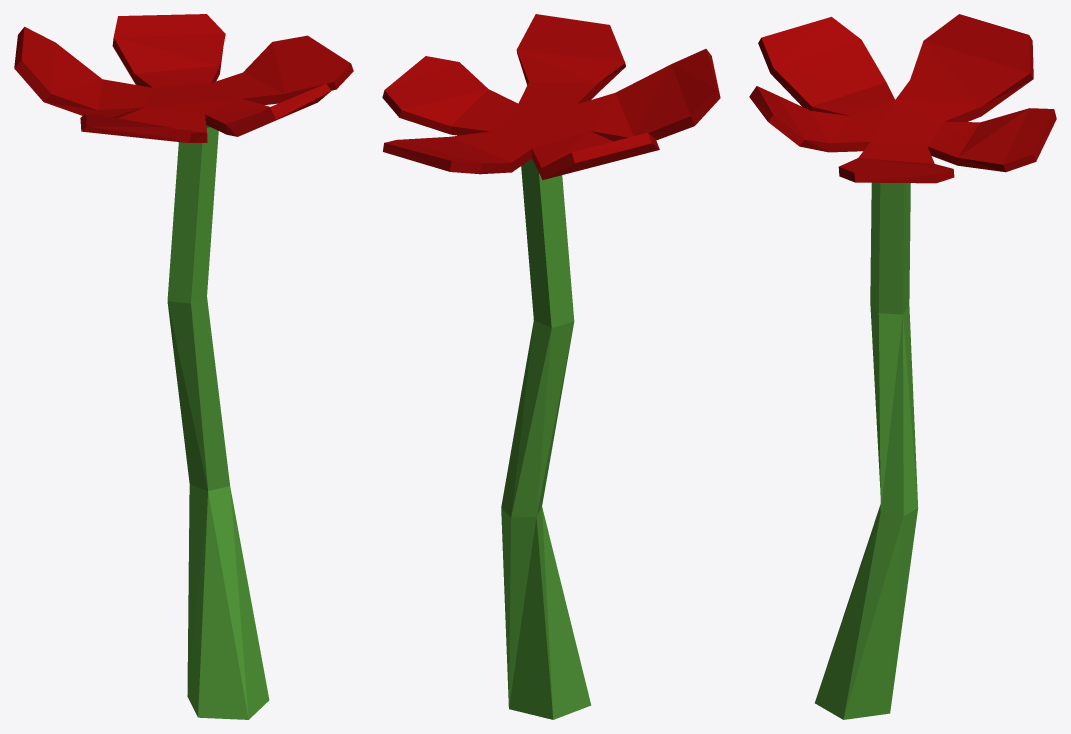
File: flower.obj
3 renders of one model, left to right at view 1: azimuth 30°, elevation 25°; view 2: azimuth 150°, elevation 25°; view 3: azimuth 270°, elevation 25°, orthographic. The views are drawn at different scales.
Visible parts, largest first — view 1: Cube.001; view 2: Cube.001; view 3: Cube.001.
Part boxes in pixels (x1=…): Cube.001: x1=14, y1=14, x2=353, y2=719; Cube.001: x1=382, y1=14, x2=720, y2=719; Cube.001: x1=749, y1=14, x2=1056, y2=719.
Size of the model in its own units: 0.4169 by 0.901 by 0.4067.
